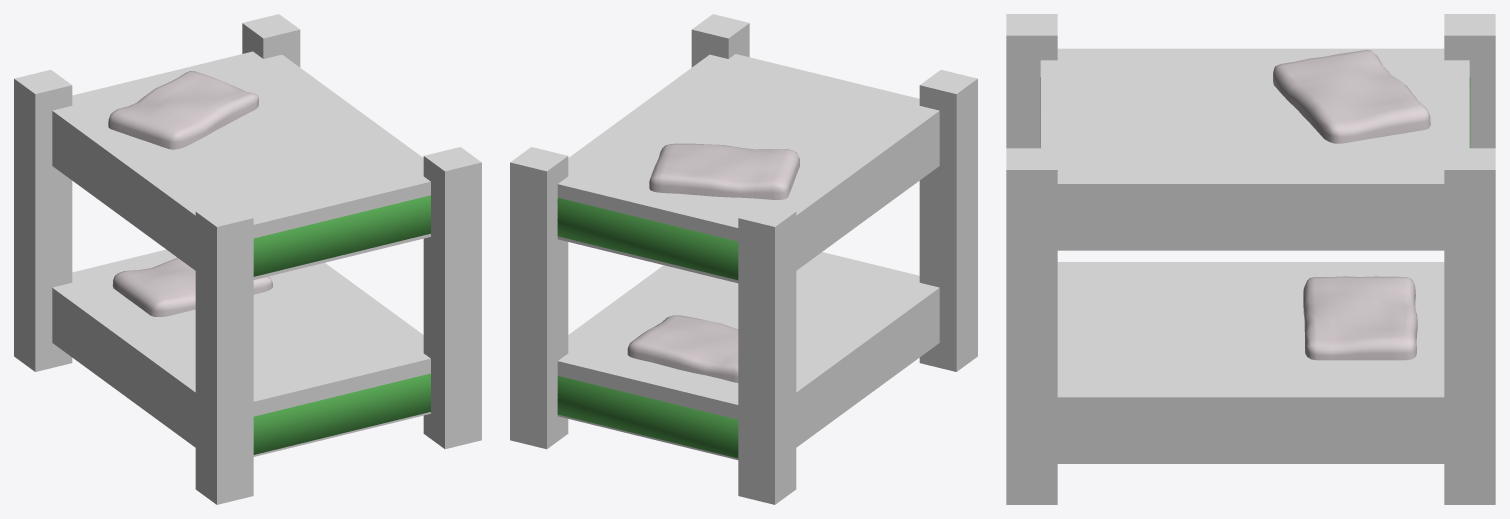
Rendered from Bed.fbx.
3 renders of one model, left to right at view 1: azimuth 30°, elevation 25°; view 2: azimuth 150°, elevation 25°; view 3: azimuth 270°, elevation 25°, orthographic. The views are drawn at different scales.
Visible parts, largest first — view 1: Bcoll 2.001, Bcoll 1.001, Bed, Bcoll 3, Bcoll 4, Bcoll 5, Bcoll 6; view 2: Bcoll 2.001, Bcoll 1.001, Bed, Bcoll 5, Bcoll 6, Bcoll 3, Bcoll 4; view 3: Bcoll 2.001, Bcoll 1.001, Bed, Bcoll 4, Bcoll 6, Bcoll 3, Bcoll 5.
Part boxes in pixels (x1,y1,x2,y2): Bcoll 2.001: (52,51,430,279); Bcoll 1.001: (52,249,430,456); Bed: (108,71,430,454); Bcoll 3: (195,202,253,504); Bcoll 4: (423,147,481,449); Bcoll 5: (14,69,72,371); Bcoll 6: (242,14,300,67); Bcoll 2.001: (557,54,939,283); Bcoll 1.001: (557,252,939,459); Bed: (557,143,799,458); Bcoll 5: (738,202,796,504); Bcoll 6: (510,147,568,449); Bcoll 3: (919,69,977,371); Bcoll 4: (691,14,749,67); Bcoll 2.001: (1040,48,1469,250); Bcoll 1.001: (1057,262,1444,463); Bed: (1040,50,1470,360); Bcoll 4: (1006,148,1057,504); Bcoll 6: (1444,148,1495,504); Bcoll 3: (1006,14,1057,148); Bcoll 5: (1444,14,1495,148).
Bounding box in the file's own units: 303 × 304 × 402.
